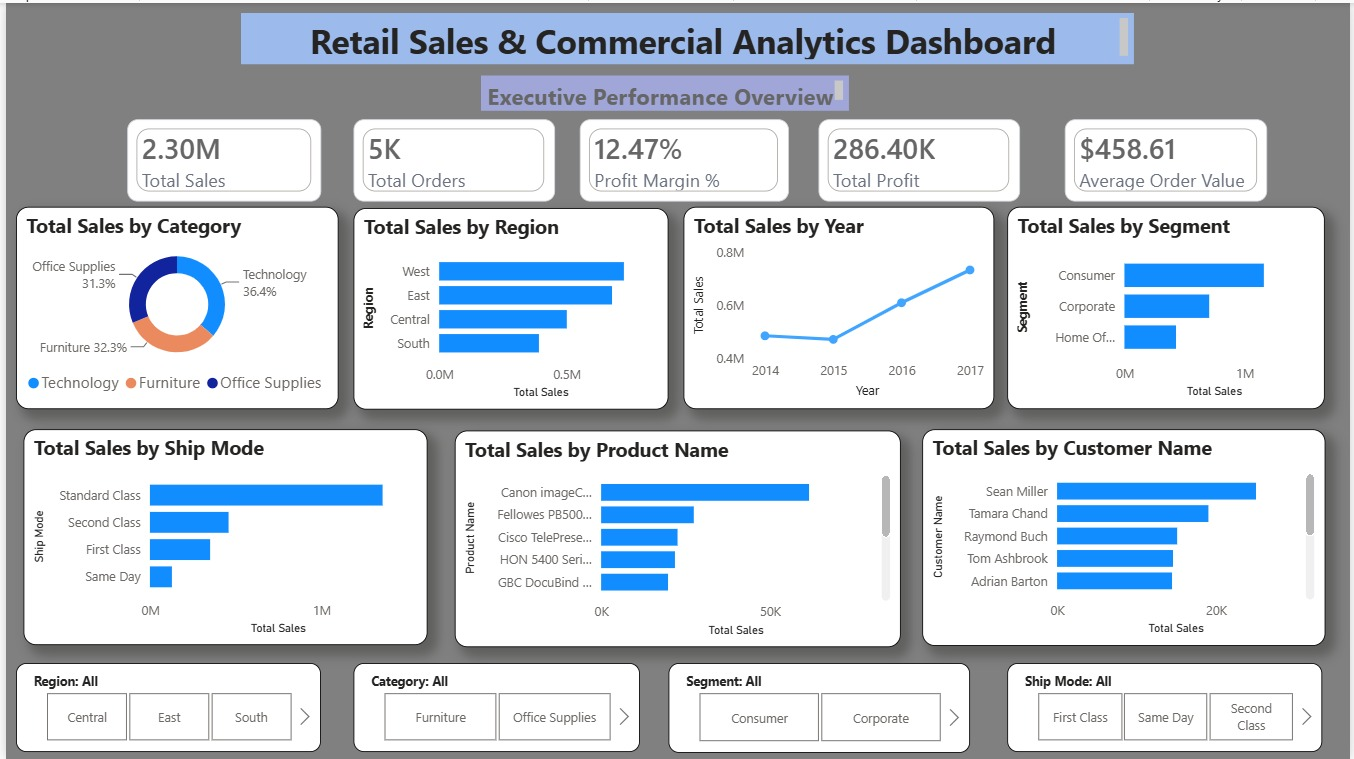

This screenshot's page, from the dashboard's own definition file:
{"tool":"powerbi","page":{"name":"Page 1","canvas":[1280,720],"ordinal":0},"visuals":[{"type":"cardVisual","fields":{"Data":["Retail_Sales_UTF8.Total Sales"]},"box":[115.5,110.7,184.5,78.6],"z":0},{"type":"donutChart","fields":{"Category":["Retail_Sales_UTF8.Category"],"Y":["Retail_Sales_UTF8.Total Sales"]},"box":[10,193.8,307.5,192.5],"z":1000},{"type":"clusteredBarChart","fields":{"Category":["Retail_Sales_UTF8.Region"],"Y":["Retail_Sales_UTF8.Total Sales"]},"box":[331,195.2,300,191.7],"z":2000},{"type":"lineChart","fields":{"Category":["Retail_Sales_UTF8.Order Date.Variation.Date Hierarchy.Year","Retail_Sales_UTF8.Order Date.Variation.Date Hierarchy.Month"],"Y":["Retail_Sales_UTF8.Total Sales"]},"box":[645,193.8,296.2,192.5],"z":3000},{"type":"clusteredBarChart","fields":{"Category":["Retail_Sales_UTF8.Segment"],"Y":["Retail_Sales_UTF8.Total Sales"]},"box":[953.8,193.8,302.5,192.5],"z":4000},{"type":"textbox","box":[223.8,9.5,850,48.8],"z":5000},{"type":"clusteredBarChart","fields":{"Category":["Retail_Sales_UTF8.Ship Mode"],"Y":["Retail_Sales_UTF8.Total Sales"]},"box":[16.7,406,384.5,206],"z":6000},{"type":"clusteredBarChart","fields":{"Category":["Retail_Sales_UTF8.Product Name"],"Y":["Retail_Sales_UTF8.Total Sales"]},"box":[427.5,407.5,425,206.2],"z":7000},{"type":"clusteredBarChart","fields":{"Category":["Retail_Sales_UTF8.Customer Name"],"Y":["Retail_Sales_UTF8.Total Sales"]},"box":[872.5,406.2,383.8,206.2],"z":8000},{"type":"slicer","fields":{"Values":["Retail_Sales_UTF8.Region"]},"box":[10,628.8,290,85],"z":9000},{"type":"slicer","fields":{"Values":["Retail_Sales_UTF8.Ship Mode"]},"box":[953.8,628.8,300,85],"z":10000},{"type":"slicer","fields":{"Values":["Retail_Sales_UTF8.Segment"]},"box":[631,628.6,286.9,85.7],"z":11000},{"type":"slicer","fields":{"Values":["Retail_Sales_UTF8.Category"]},"box":[331.2,628.8,272.5,85],"z":12000},{"type":"textbox","box":[452.4,69,350,33.3],"z":13000},{"type":"cardVisual","fields":{"Data":["Retail_Sales_UTF8.Total Orders"]},"box":[331,110.7,191.7,78.6],"z":14000},{"type":"cardVisual","fields":{"Data":["Retail_Sales_UTF8.Profit Margin %"]},"box":[546.4,110.7,198.8,78.6],"z":15000},{"type":"cardVisual","fields":{"Data":["Retail_Sales_UTF8.Total Profit"]},"box":[773.8,110.7,191.7,78.6],"z":16000},{"type":"cardVisual","fields":{"Data":["Retail_Sales_UTF8.Average Order Value"]},"box":[1008.3,110.7,192.9,78.6],"z":17000}]}

Visuals, with their boxes in screenshot pixels (x1, y1, x2, y2), scaled from the page's 1280x720 canvas onto the 1354x759 screenshot:
cardVisual - Retail_Sales_UTF8.Total Sales: crop(122, 117, 317, 200)
donutChart - Retail_Sales_UTF8.Category x Retail_Sales_UTF8.Total Sales: crop(11, 204, 336, 407)
clusteredBarChart - Retail_Sales_UTF8.Region x Retail_Sales_UTF8.Total Sales: crop(350, 206, 667, 408)
lineChart - Retail_Sales_UTF8.Order Date.Variation.Date Hierarchy.Year x Retail_Sales_UTF8.Order Date.Variation.Date Hierarchy.Month: crop(682, 204, 996, 407)
clusteredBarChart - Retail_Sales_UTF8.Segment x Retail_Sales_UTF8.Total Sales: crop(1009, 204, 1329, 407)
textbox: crop(237, 10, 1136, 61)
clusteredBarChart - Retail_Sales_UTF8.Ship Mode x Retail_Sales_UTF8.Total Sales: crop(18, 428, 424, 645)
clusteredBarChart - Retail_Sales_UTF8.Product Name x Retail_Sales_UTF8.Total Sales: crop(452, 430, 902, 647)
clusteredBarChart - Retail_Sales_UTF8.Customer Name x Retail_Sales_UTF8.Total Sales: crop(923, 428, 1329, 646)
slicer - Retail_Sales_UTF8.Region: crop(11, 663, 317, 752)
slicer - Retail_Sales_UTF8.Ship Mode: crop(1009, 663, 1326, 752)
slicer - Retail_Sales_UTF8.Segment: crop(667, 663, 971, 753)
slicer - Retail_Sales_UTF8.Category: crop(350, 663, 639, 752)
textbox: crop(479, 73, 849, 108)
cardVisual - Retail_Sales_UTF8.Total Orders: crop(350, 117, 553, 200)
cardVisual - Retail_Sales_UTF8.Profit Margin %: crop(578, 117, 788, 200)
cardVisual - Retail_Sales_UTF8.Total Profit: crop(819, 117, 1021, 200)
cardVisual - Retail_Sales_UTF8.Average Order Value: crop(1067, 117, 1271, 200)
